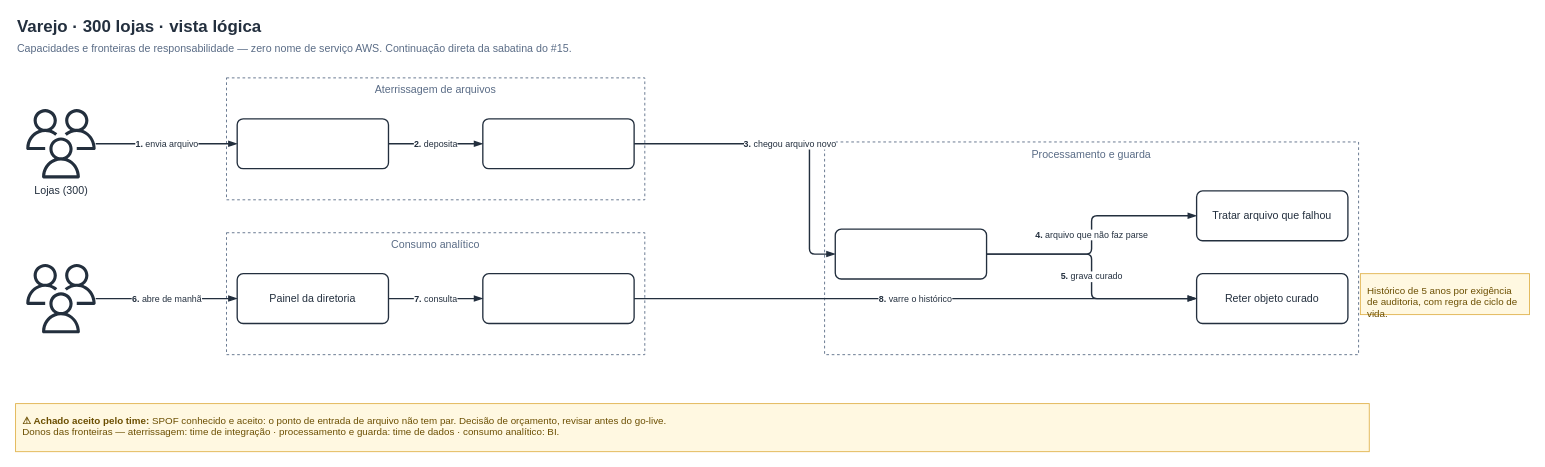
This 1545x467 diagram has some shape labels left out. Each missing label, with the centre of its shape:
Consultar histórico: the point at 558,298
Diretoria: the point at 60,298
Guardar arquivo bruto: the point at 558,143
Processar na chegada: the point at 910,253
Receber arquivo da loja: the point at 312,143
